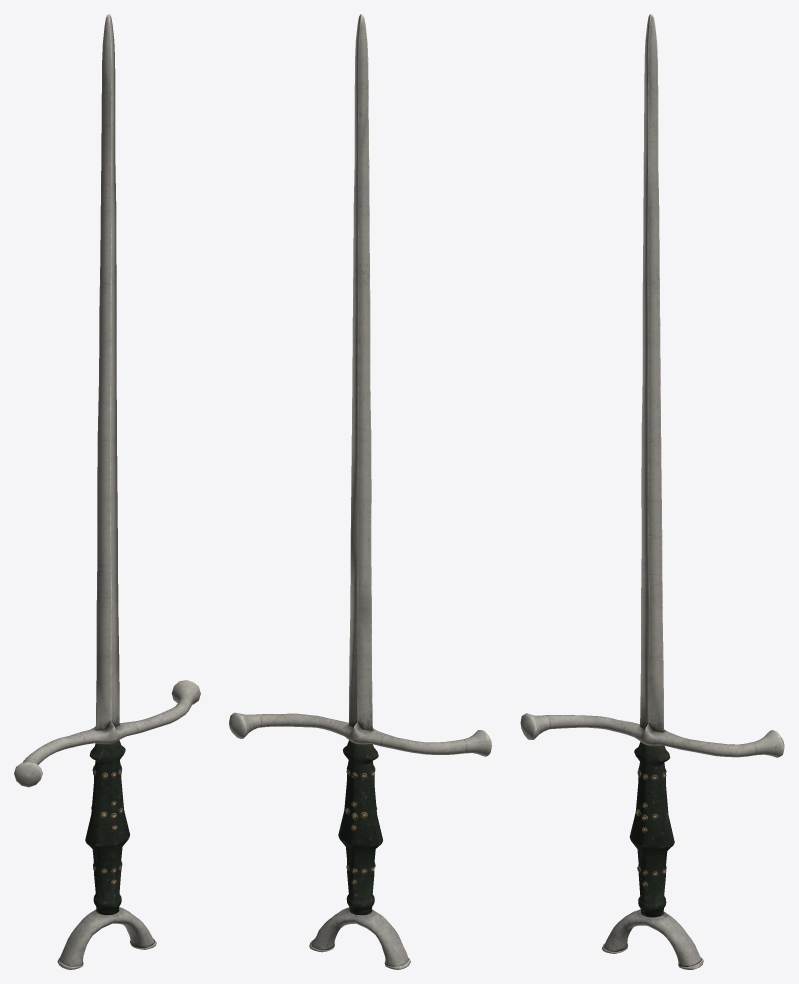
File: antique_estoc.glb
3 renders of one model, left to right at view 1: azimuth 30°, elevation 25°; view 2: azimuth 150°, elevation 25°; view 3: azimuth 330°, elevation 25°, orthographic.
Parts seen in each view (by area): view 1: antique_estoc; view 2: antique_estoc; view 3: antique_estoc.
Boxes of the visible parts, x1=… form: antique_estoc: x1=14, y1=14, x2=200, y2=969; antique_estoc: x1=229, y1=14, x2=491, y2=969; antique_estoc: x1=520, y1=14, x2=784, y2=969.
Bounding box in the file's own units: 0.3715 × 1.49 × 0.149.
Materials: 1 (1 with a texture image).
